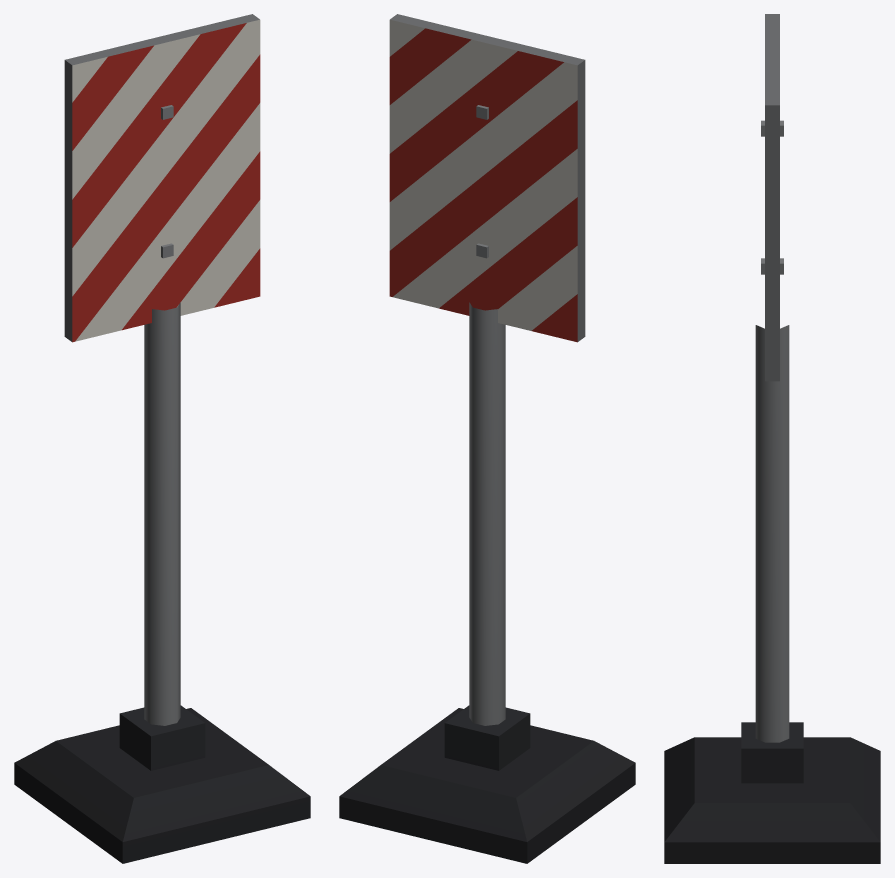
Rendered from sign.warning.red_white.glb.
3 renders of one model, left to right at view 1: azimuth 30°, elevation 25°; view 2: azimuth 150°, elevation 25°; view 3: azimuth 270°, elevation 25°, orthographic.
Visible parts, largest first — view 1: sign_warning_red_white; view 2: sign_warning_red_white; view 3: sign_warning_red_white.
Part boxes in pixels (bbox=[...]): sign_warning_red_white: bbox=[14, 14, 310, 863]; sign_warning_red_white: bbox=[339, 14, 635, 863]; sign_warning_red_white: bbox=[664, 14, 880, 863].
Size of what is drawn, in the model's own units: 0.284 by 1.1 by 0.284.
